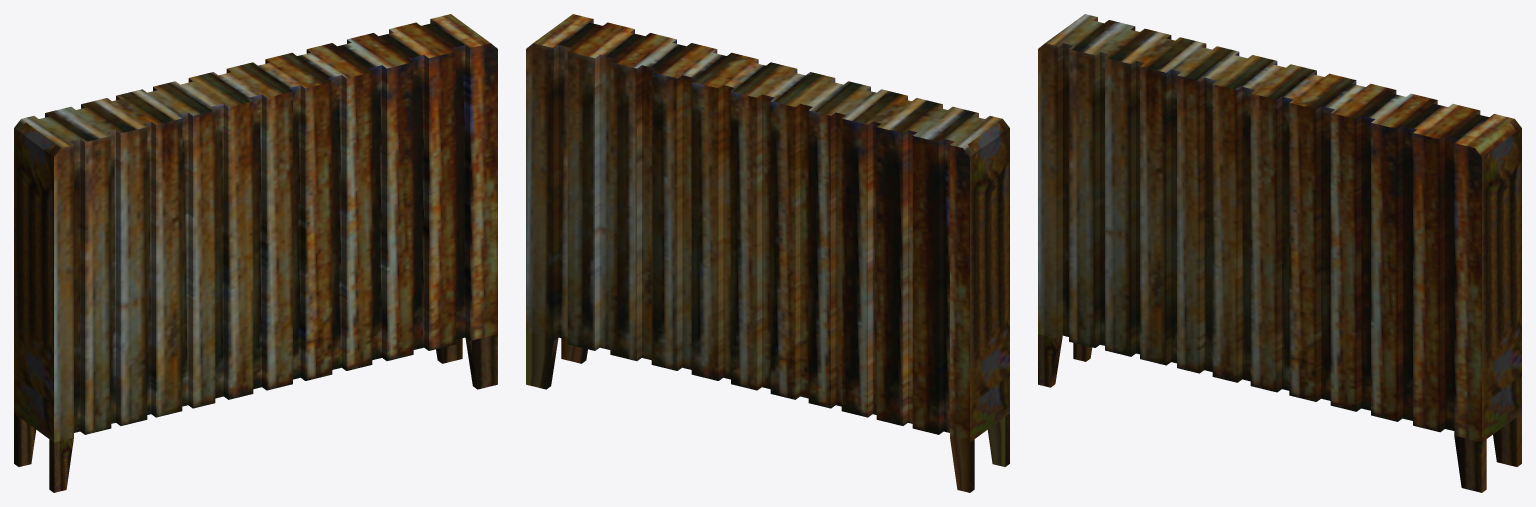
The model's file is radiator.FBX.
3 renders of one model, left to right at view 1: azimuth 30°, elevation 25°; view 2: azimuth 150°, elevation 25°; view 3: azimuth 330°, elevation 25°, orthographic.
Parts seen in each view (by area): view 1: radiator; view 2: radiator; view 3: radiator.
Part boxes in pixels (box(x1,y1,x2,y2)): radiator: box(14, 14, 497, 492); radiator: box(526, 14, 1009, 492); radiator: box(1038, 14, 1521, 492).
Size of the model in its own units: 62.79 by 46.38 by 9.78.
